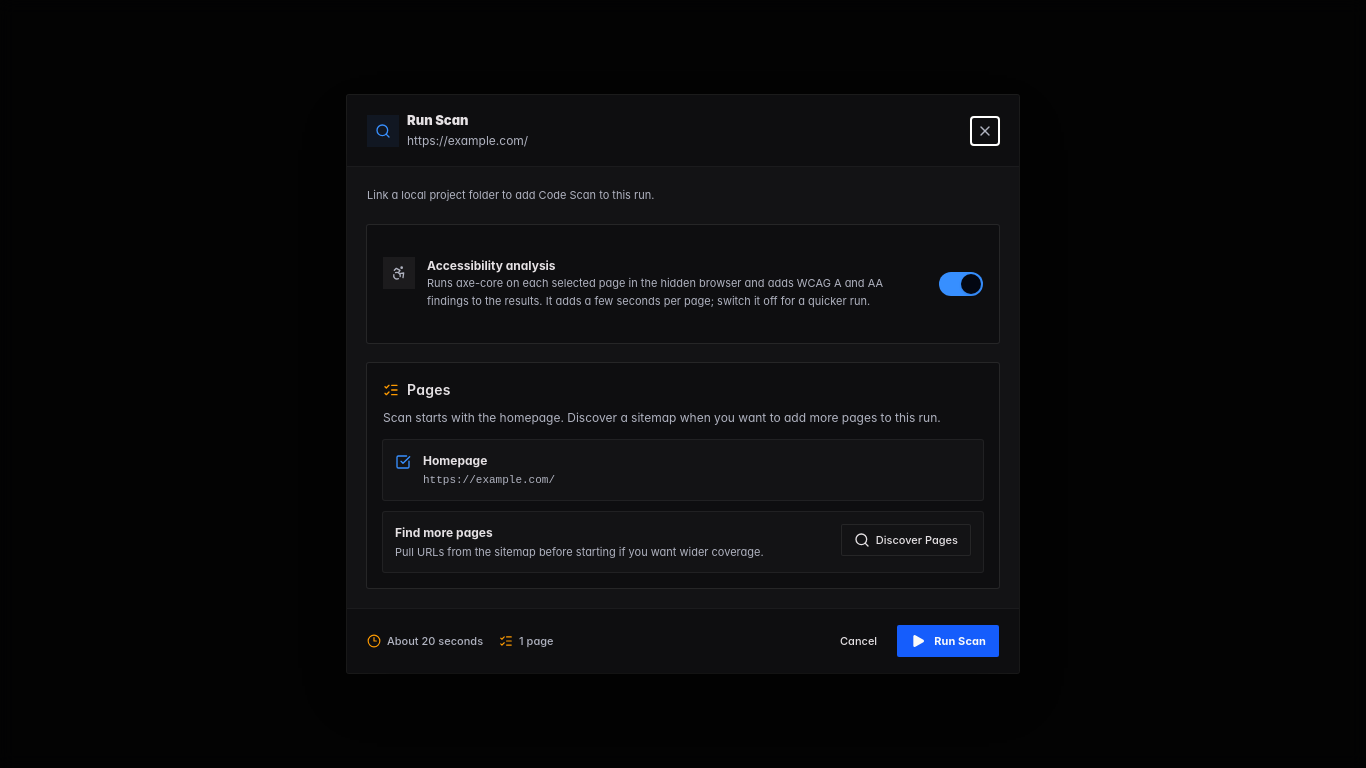
Test: ScanConfigOverlay › publishes discovered pages to the shared sitemap cache
The width and height of the screenshot is (1366, 768).
Click the button "Discover Pages".
click(906, 540)  # box [841,524,971,556]
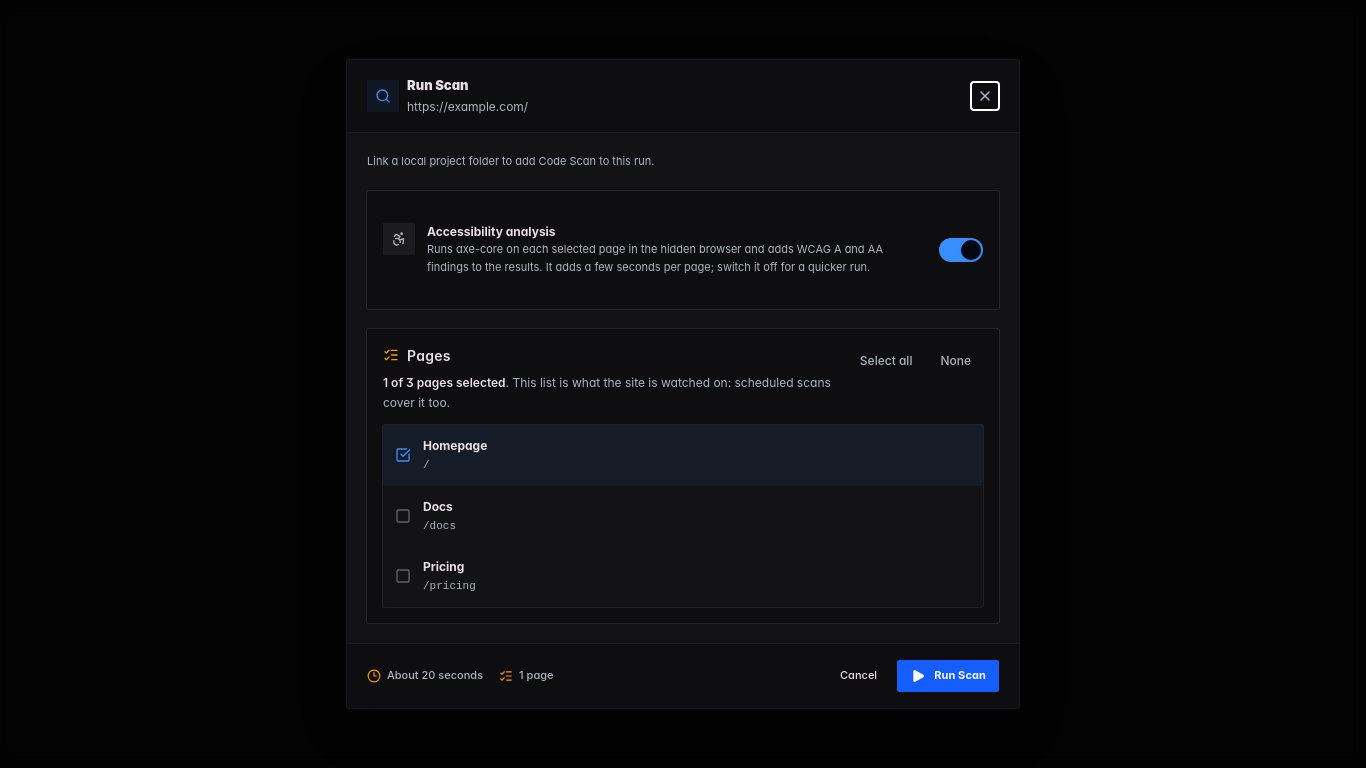
Expected: the text "1 of 3 pages selected" is shown, [383,375,506,390]
